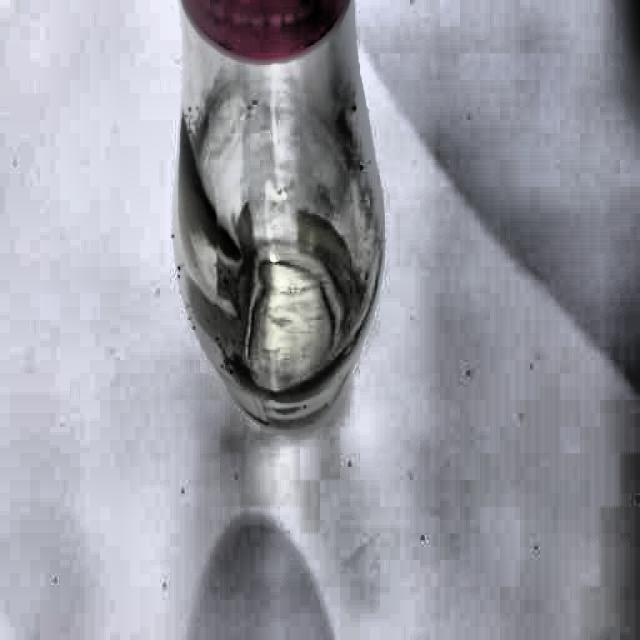glass: (168, 0, 396, 443)
